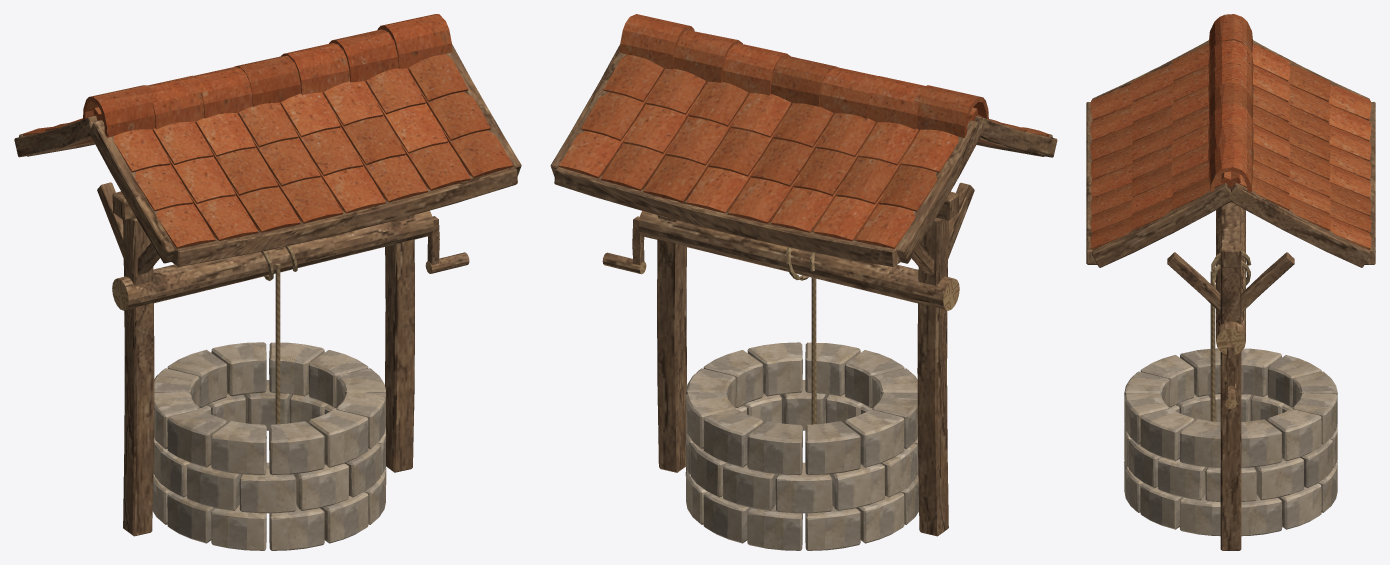
The model's file is well_LOD1.fbx.
3 views of the same model, side by side, from view 1: azimuth 30°, elevation 25°; view 2: azimuth 150°, elevation 25°; view 3: azimuth 270°, elevation 25° (orthographic). The views are drawn at different scales.
Visible parts, largest first — view 1: PROP_Well_A_LOD1; view 2: PROP_Well_A_LOD1; view 3: PROP_Well_A_LOD1.
Part boxes in pixels (left/top/right/bottom): PROP_Well_A_LOD1: left=14, top=14, right=521, bottom=550; PROP_Well_A_LOD1: left=550, top=14, right=1057, bottom=550; PROP_Well_A_LOD1: left=1086, top=14, right=1375, bottom=550.
Size of the model in its own units: 259 by 294 by 192.
